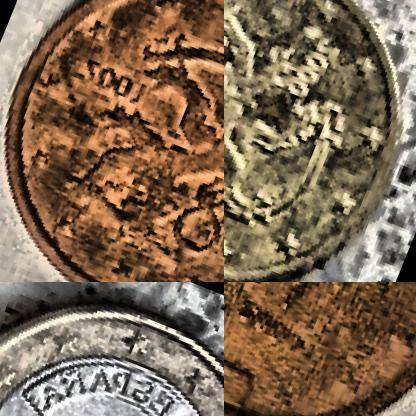coin: (0, 0, 223, 281), (224, 0, 415, 281), (0, 282, 223, 415), (224, 282, 415, 415)
